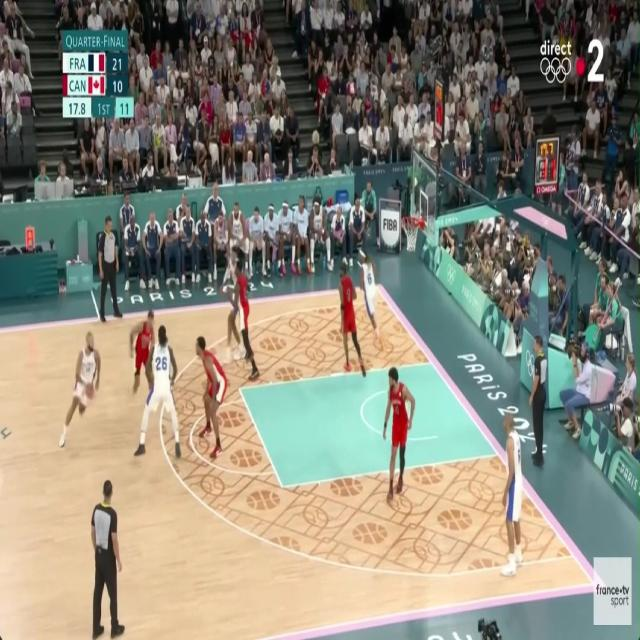ball_handler: (60, 331, 101, 449)
